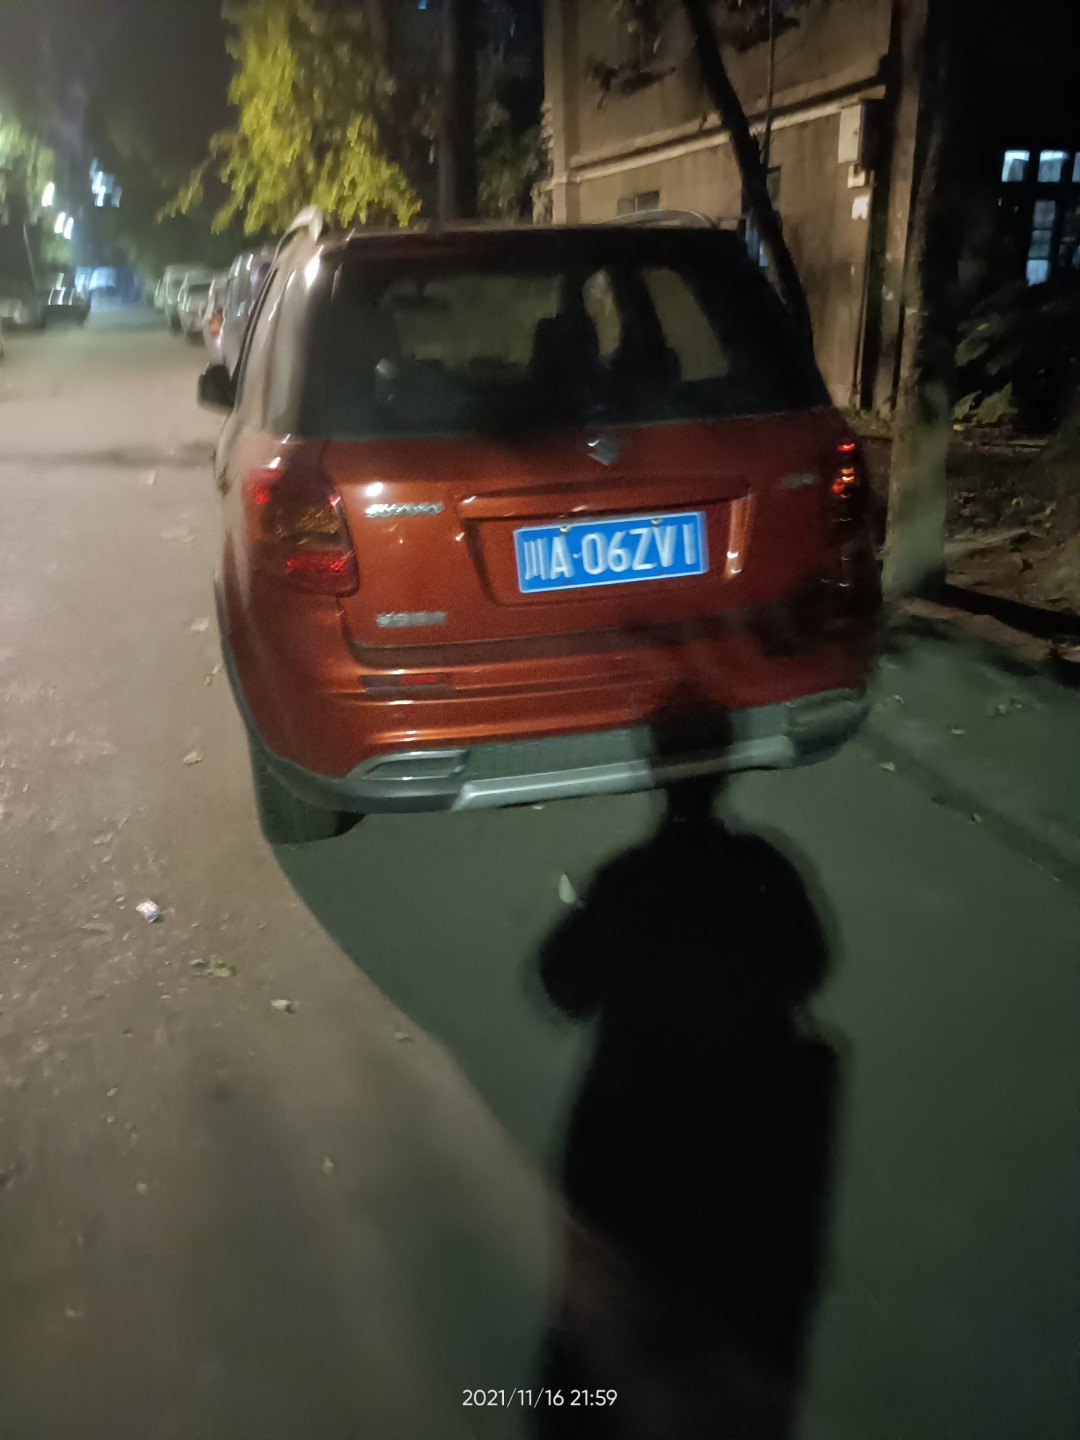plate: (512, 513, 707, 593)
